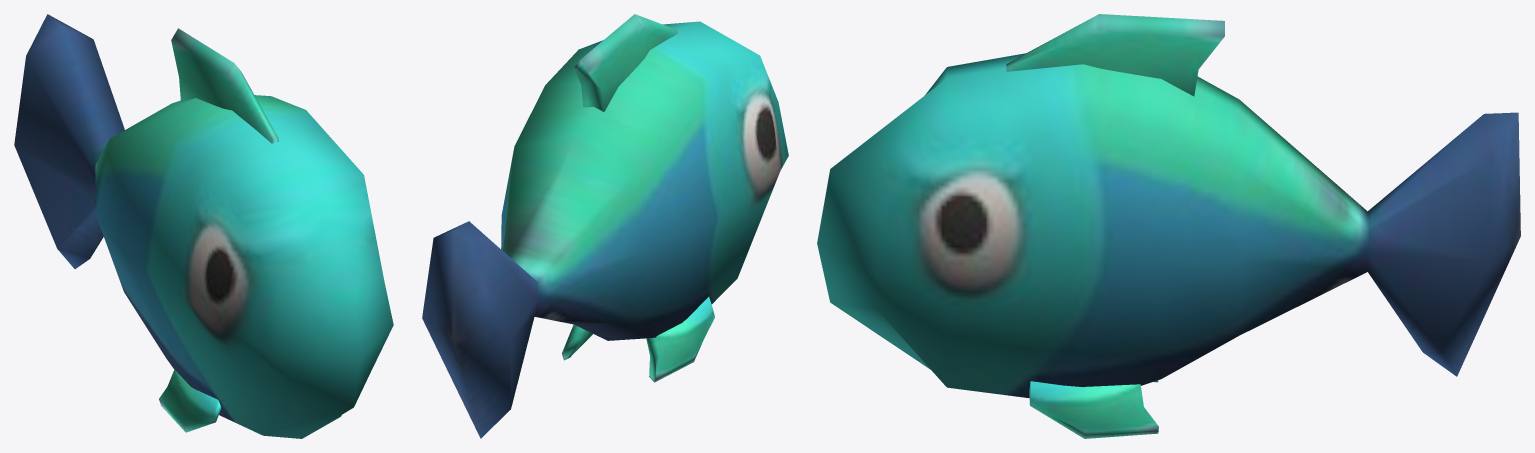
Rendered from mavi_balk.fbx.
The picture shows the model from 3 angles, left to right: view 1: azimuth 30°, elevation 25°; view 2: azimuth 150°, elevation 25°; view 3: azimuth 270°, elevation 25°; orthographic projection. The views are drawn at different scales.
Visible parts, largest first — view 1: mavi balık; view 2: mavi balık; view 3: mavi balık.
Boxes of the visible parts, <box> form: mavi balık: <box>14,14,393,438</box>; mavi balık: <box>422,14,788,438</box>; mavi balık: <box>817,14,1520,438</box>.
Bounding box in the file's own units: 0.1296 × 0.2508 × 0.4051.
